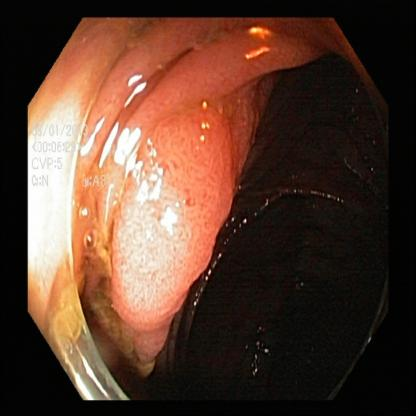Labels: (28, 119, 105, 198)
Polyps: (107, 105, 218, 319)
